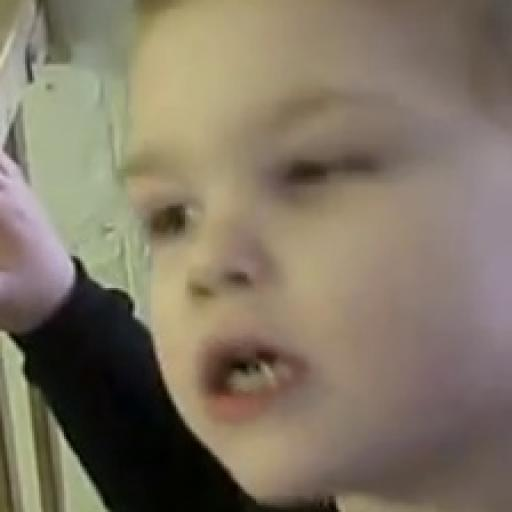Autism: (102, 9, 512, 512)
